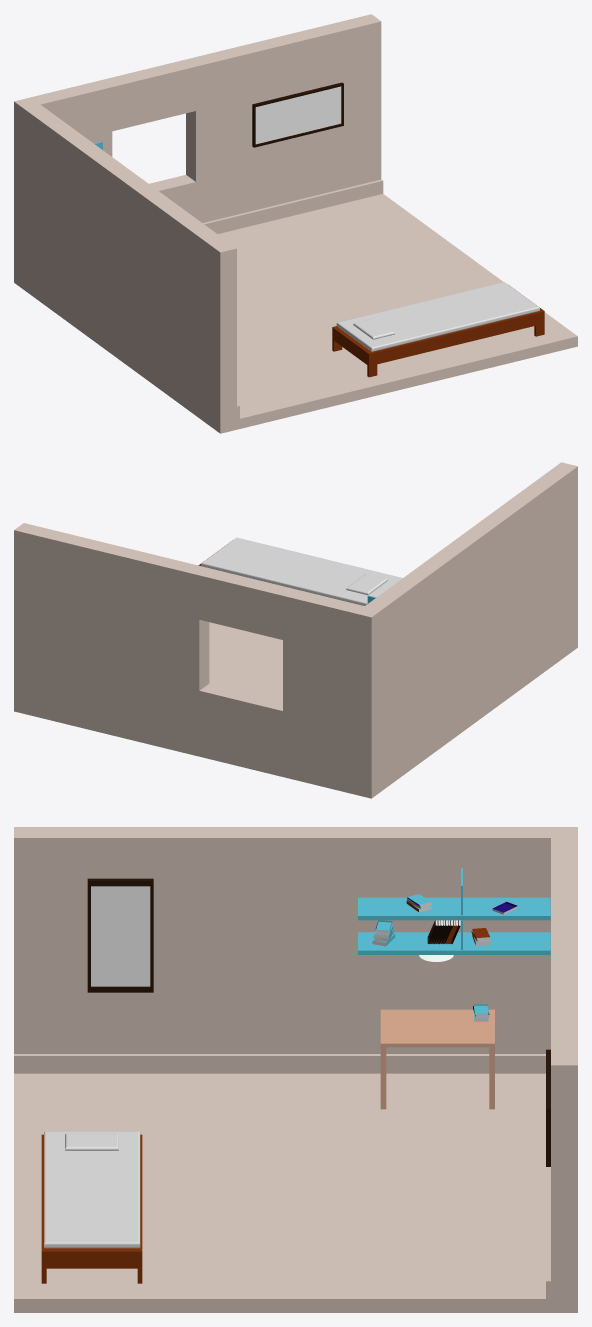
Rendered from RoomModel.glb.
3 renders of one model, top to bottom at view 1: azimuth 30°, elevation 25°; view 2: azimuth 150°, elevation 25°; view 3: azimuth 270°, elevation 25°, orthographic. The views are drawn at different scales.
Visible parts, largest first — view 1: room; view 2: room; view 3: room.
Part boxes in pixels (box(x1,y1,x2,y2)): room: box(14, 14, 577, 433); room: box(14, 462, 577, 798); room: box(14, 827, 577, 1312).
Size of the model in its own units: 16 by 7.75 by 16.
